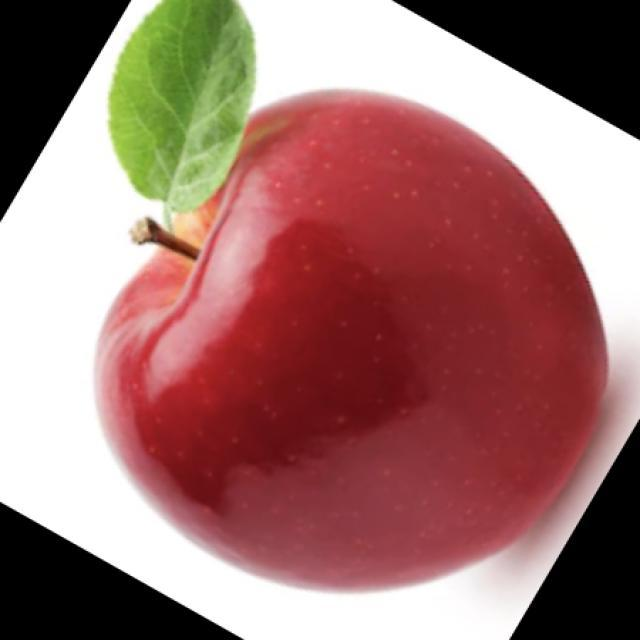Fresh Apple: (76, 98, 616, 597)
